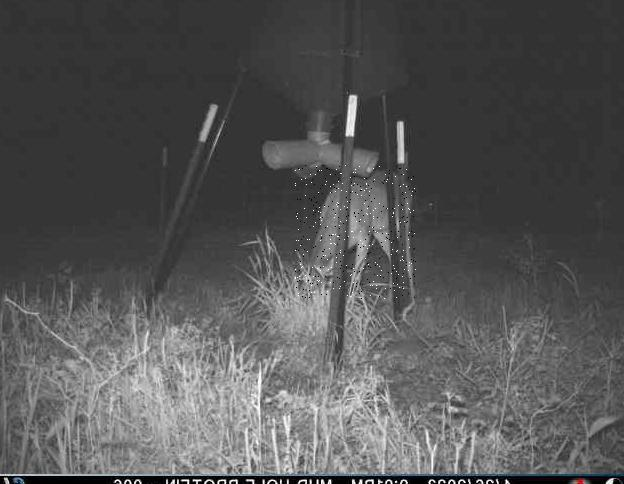Deer: (295, 165, 416, 300)
